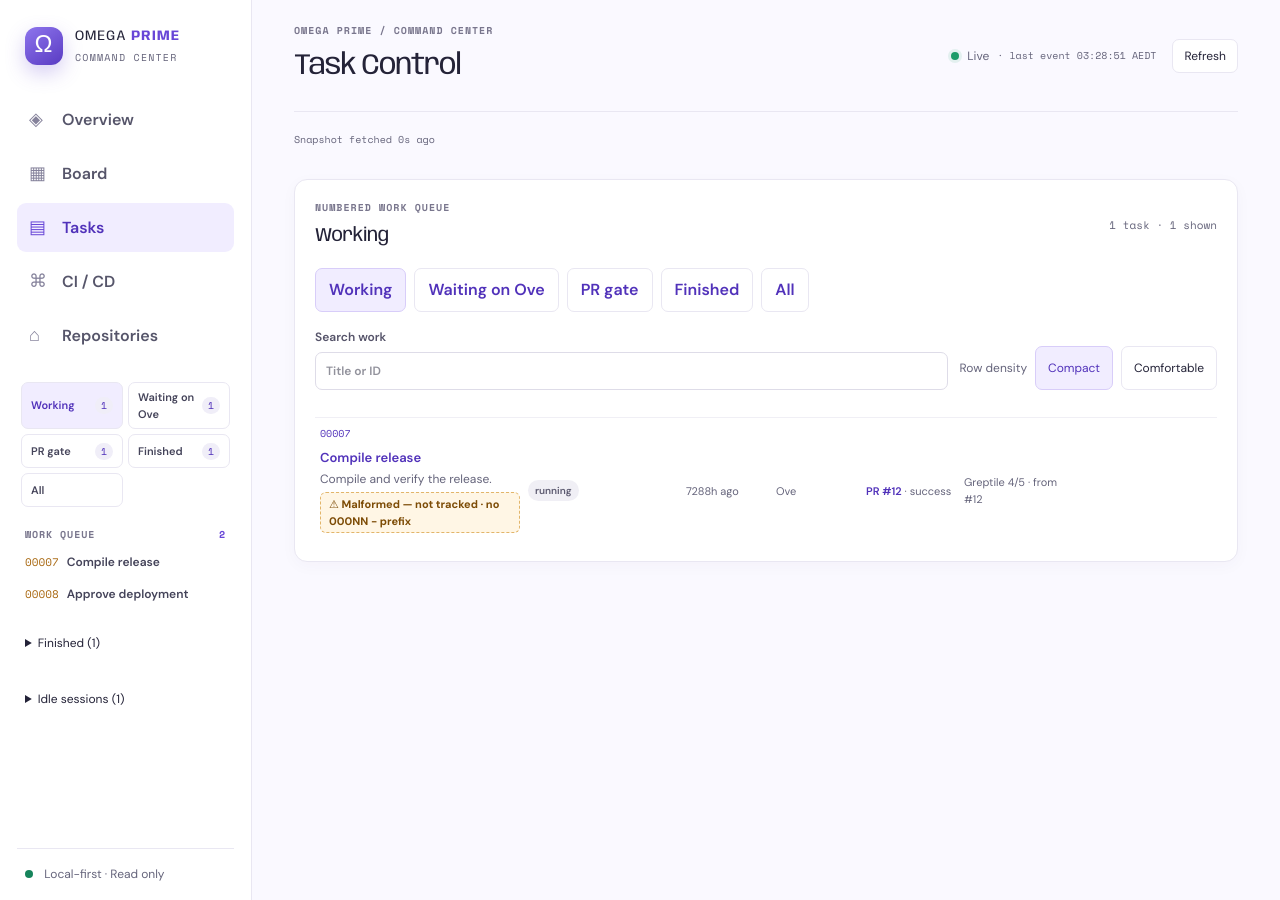
Test: Command Center hash routes › opens and clears each bucket and restores initial hash
Check: the heading "Working" is shown, box [315,226,389,246]
What coordinates should you click on to do the following:
click the link "Waiting on Ove"
I would click on:
 (486, 290)
Its box is [414,268,559,312].
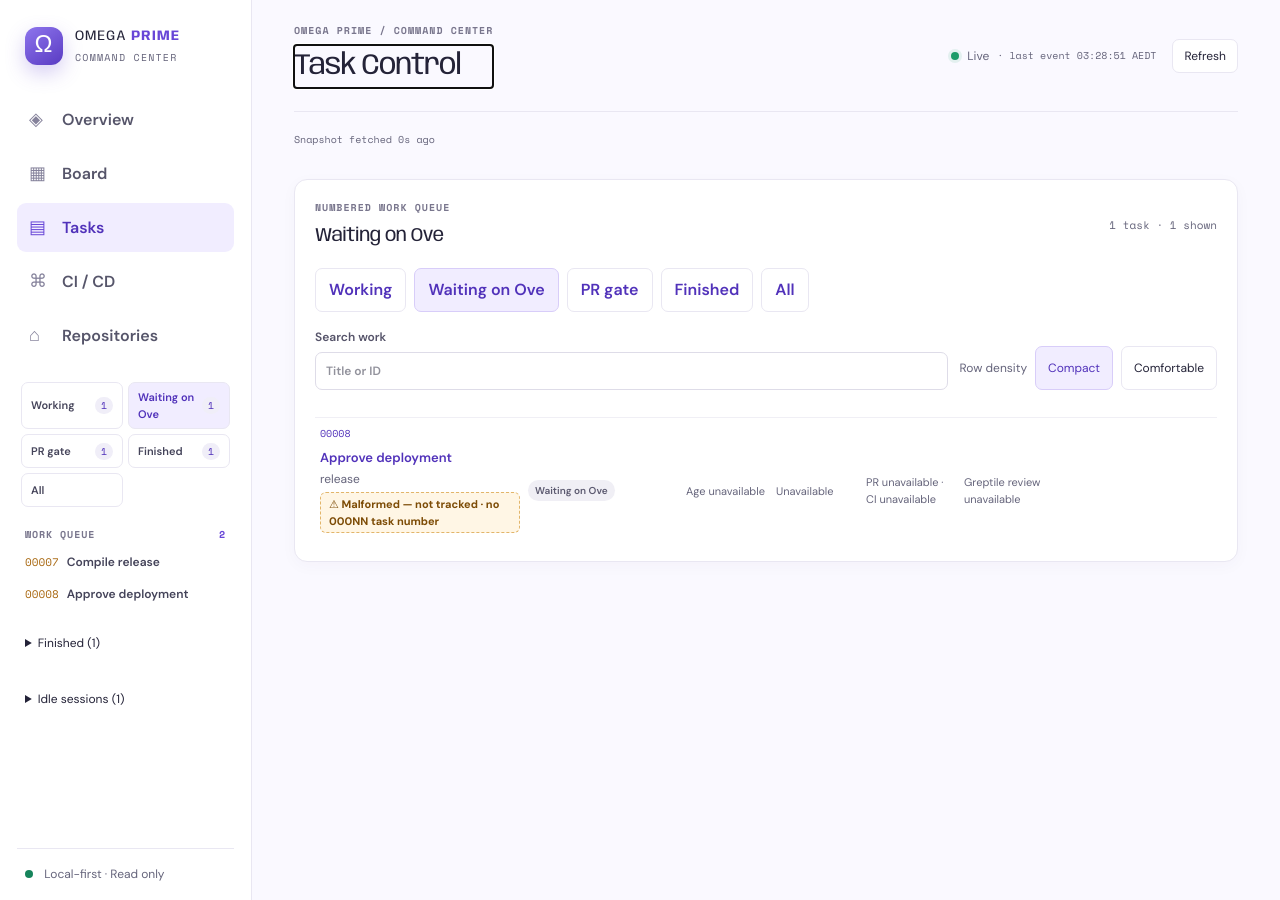
What coordinates should you click on to do the following:
click the link "PR gate"
I would click on:
 (610, 290)
Its box is [567,268,652,312].
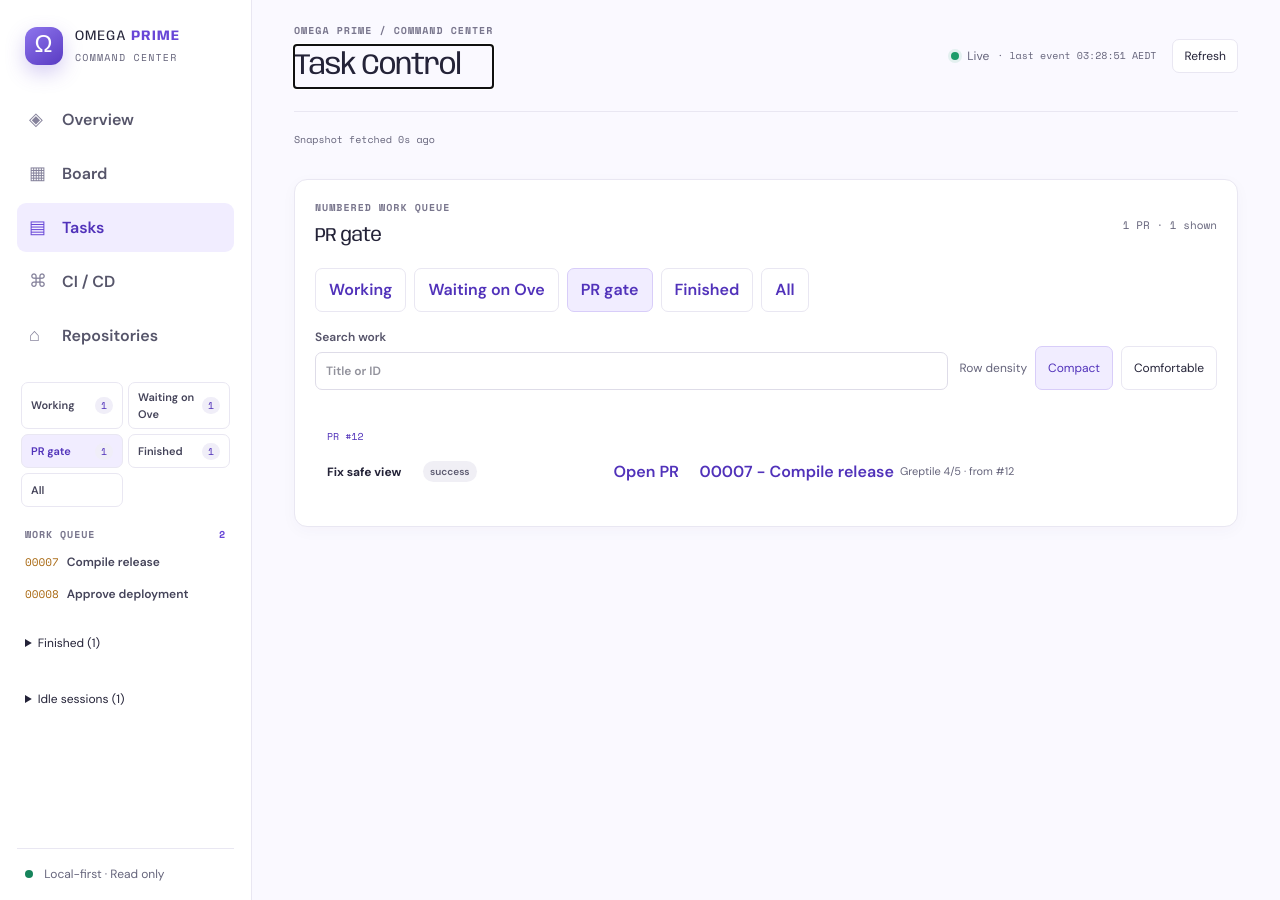
What coordinates should you click on to do the following:
click the link "Finished"
I would click on:
 (707, 290)
Its box is [660,268,753,312].
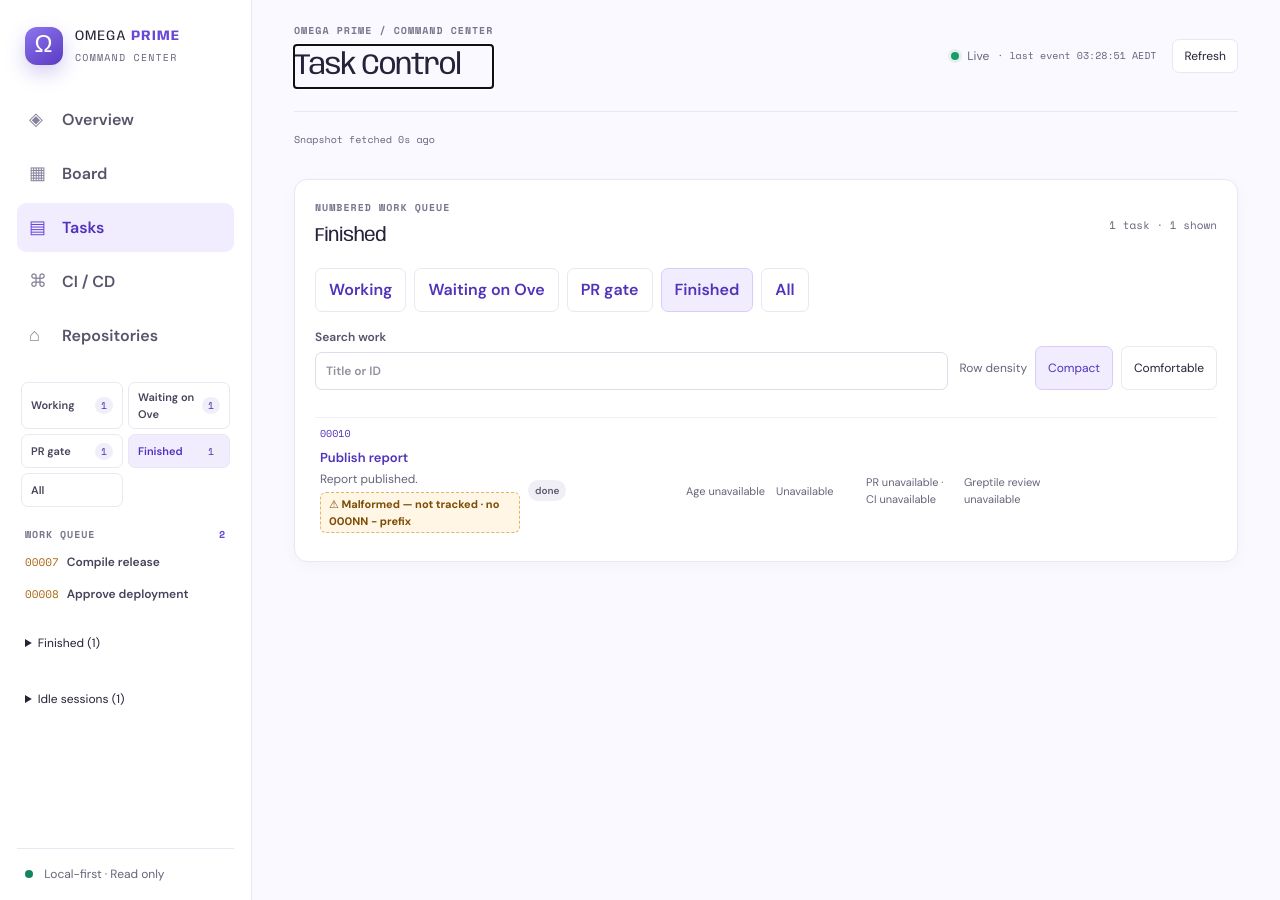
What coordinates should you click on to do the following:
click the link "All" below "Live"
I would click on:
 (785, 290)
Its box is [761,268,809,312].
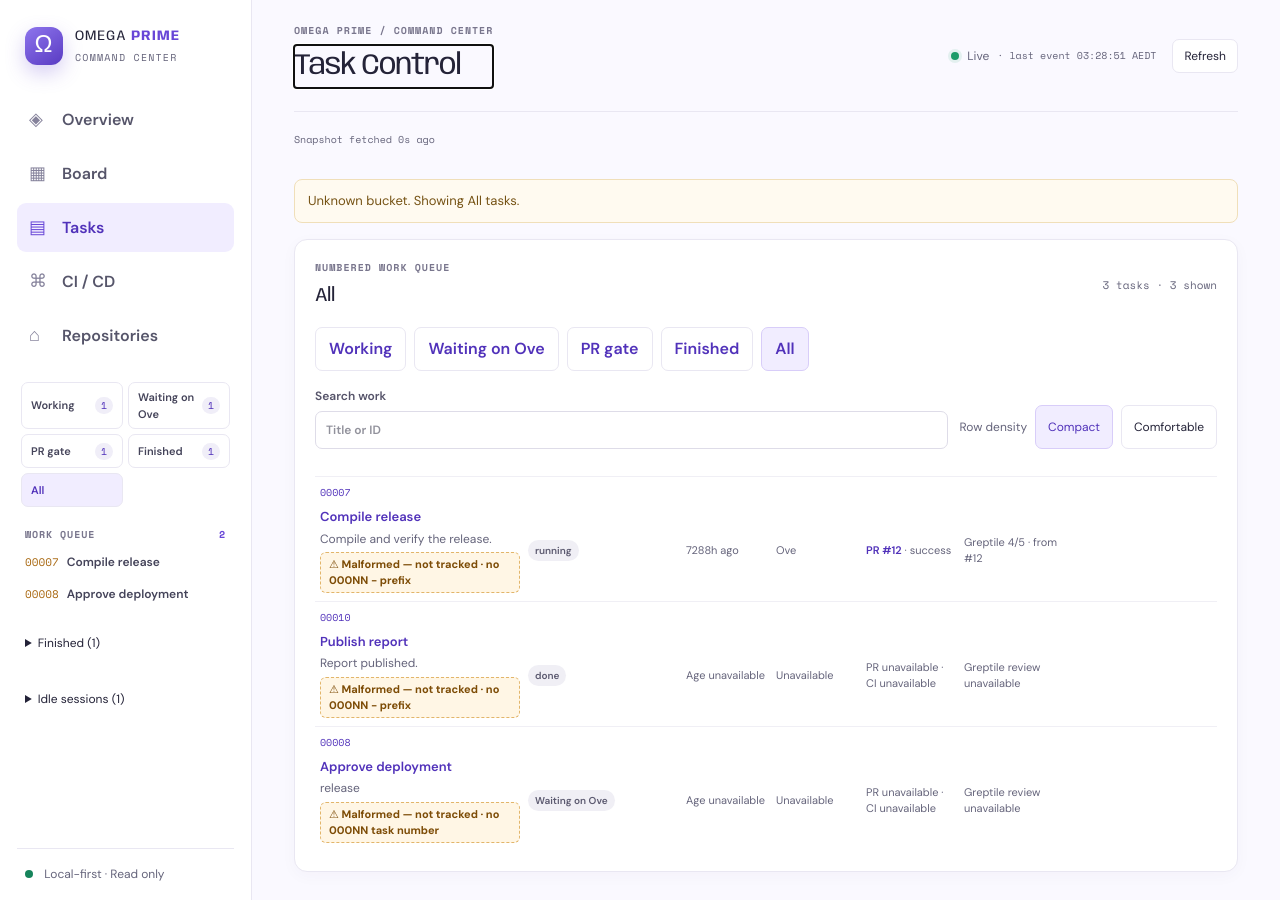
Check: the message reads "Unknown bucket. Showing All tasks.", box [308,192,519,209]
